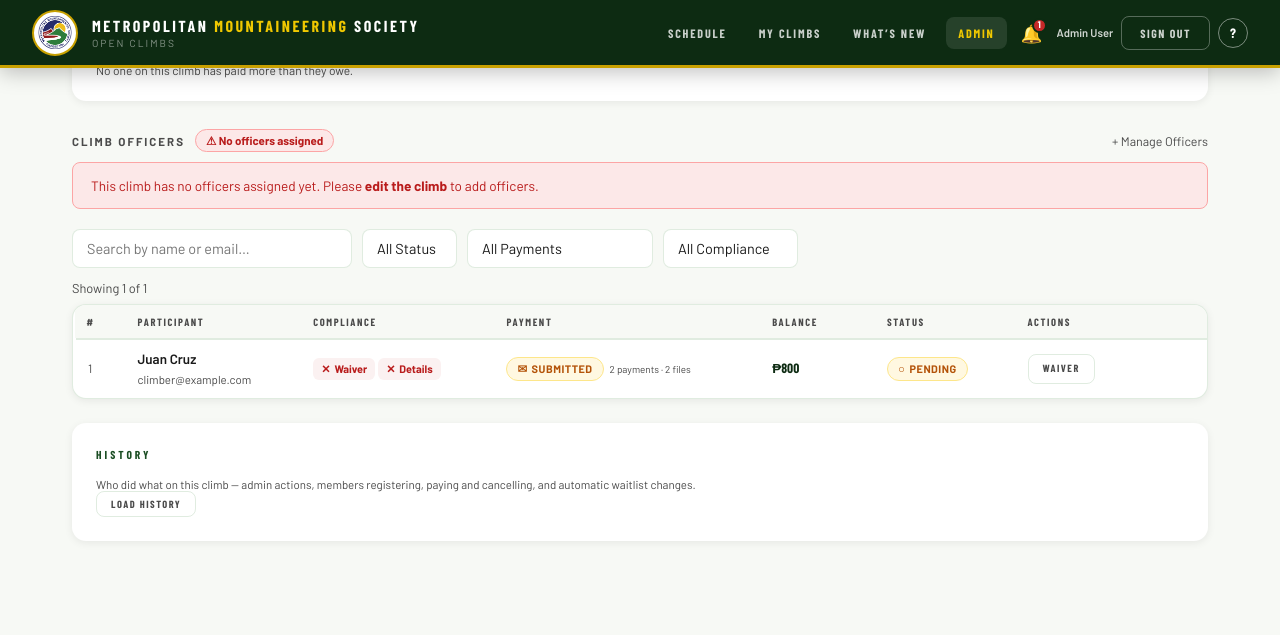
Scenario: Admin ClimbDetail › breaks out each payment when a registrant paid in instalments
(page scrolled)
Click the text "Juan Cruz".
click(167, 360)  # box x1=138 y1=350 x2=196 y2=370
(page scrolled)
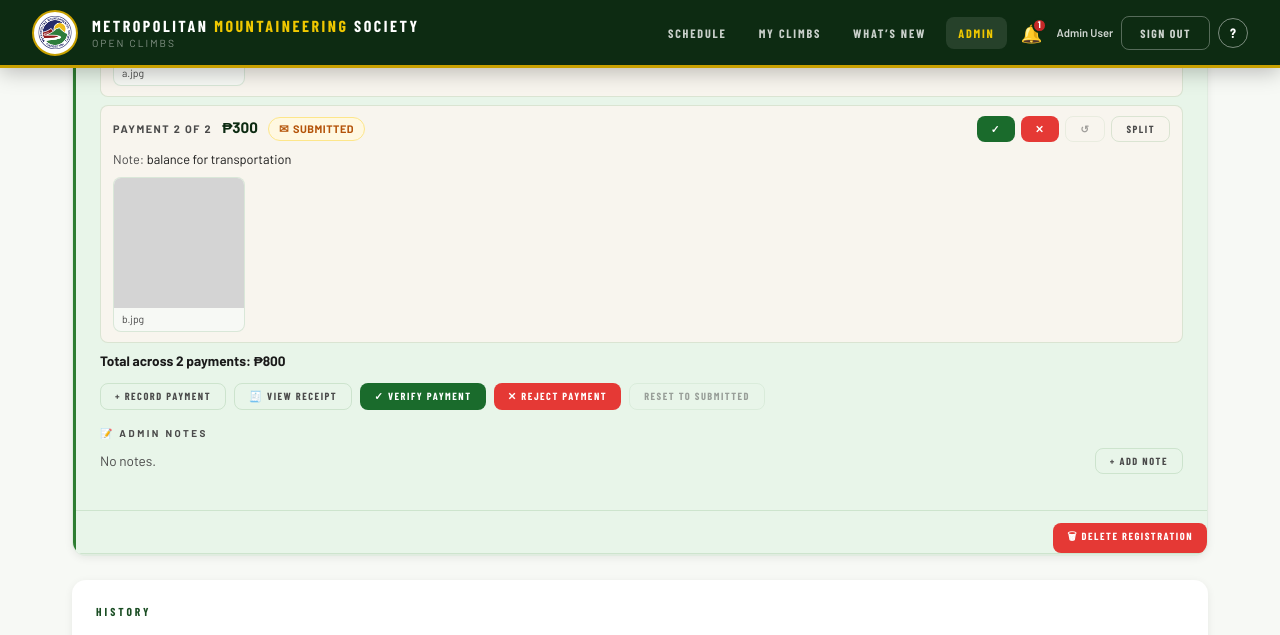
Check: the text "Payment 2 of 2" is shown, box x1=113 y1=121 x2=212 y2=137
Check: the text "₱300" is shown, box x1=222 y1=116 x2=258 y2=138
Check: the text "Note: balance for transportation" is shown, box x1=113 y1=151 x2=291 y2=167
